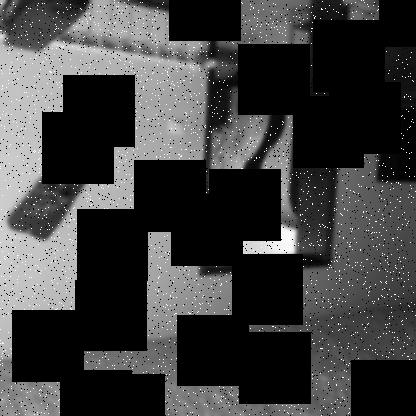Porte: (196, 0, 353, 278)
